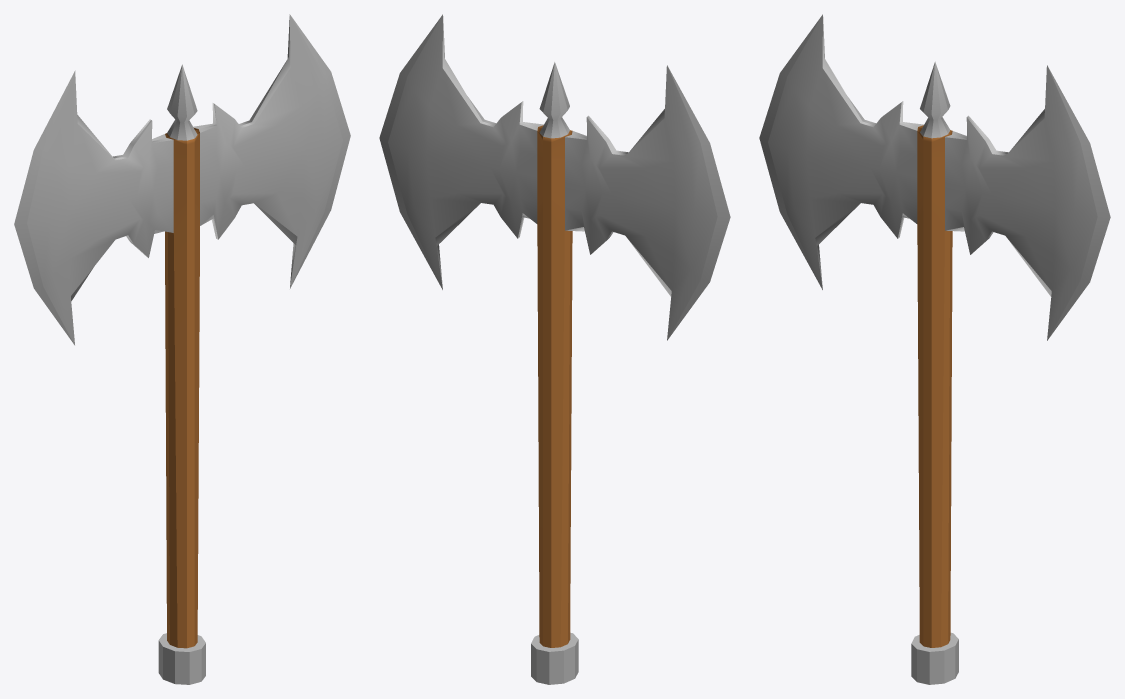
File: axedeff 1.fbx
The picture shows the model from 3 angles, left to right: view 1: azimuth 30°, elevation 25°; view 2: azimuth 150°, elevation 25°; view 3: azimuth 330°, elevation 25°; orthographic projection.
Visible parts, largest first — view 1: Axe; view 2: Axe; view 3: Axe.
Boxes of the visible parts, x1=… form: Axe: x1=14, y1=14, x2=350, y2=684; Axe: x1=379, y1=14, x2=730, y2=684; Axe: x1=759, y1=14, x2=1110, y2=684.
Size of the model in its own units: 288 by 507 by 36.85.
